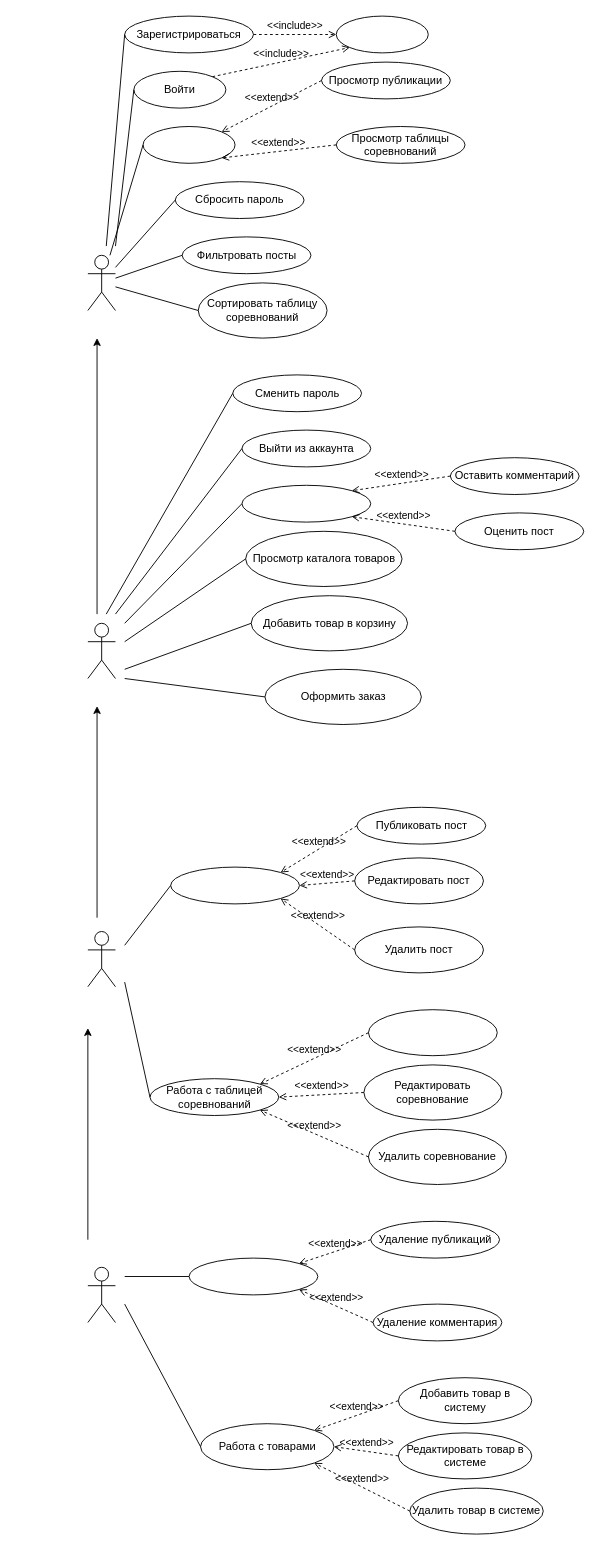
Some shapes in this 600 by 1550 pixel diagram are drawn without their labels. The shapes that lost their labels are listed below. From the top down, each one's centre as x and y in pixels, then its label:
At pixel 381 34: "По почте".
At pixel 188 144: "Просмотр контента".
At pixel 101 282: "Неавторизованный пользователь".
At pixel 306 503: "Оставить обратную связь автору".
At pixel 101 650: "Авторизованный пользователь".
At pixel 234 885: "Работа с публикациями".
At pixel 101 959: "Публикант".
At pixel 432 1032: "Добавить соревнование".
At pixel 101 1294: "Администратор".
At pixel 253 1276: "Модерация контента".
